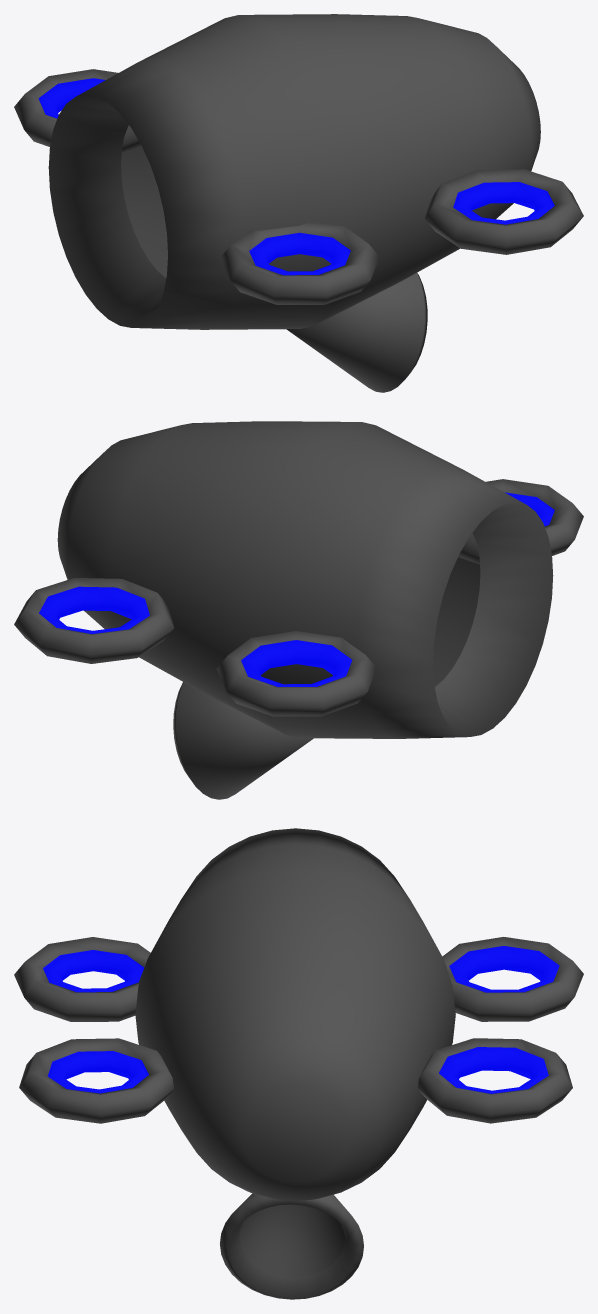
Rendered from drone1.glb.
3 views of the same model, one above another, from view 1: azimuth 30°, elevation 25°; view 2: azimuth 150°, elevation 25°; view 3: azimuth 270°, elevation 25° (orthographic).
Parts seen in each view (by area): view 1: Drone 1; view 2: Drone 1; view 3: Drone 1.
Boxes of the visible parts, x1,y1,x2,y2 form: Drone 1: (14, 14, 583, 392); Drone 1: (14, 421, 583, 799); Drone 1: (14, 828, 583, 1299).
Bounding box in the file's own units: 10.28 × 9.3 × 12.55.
